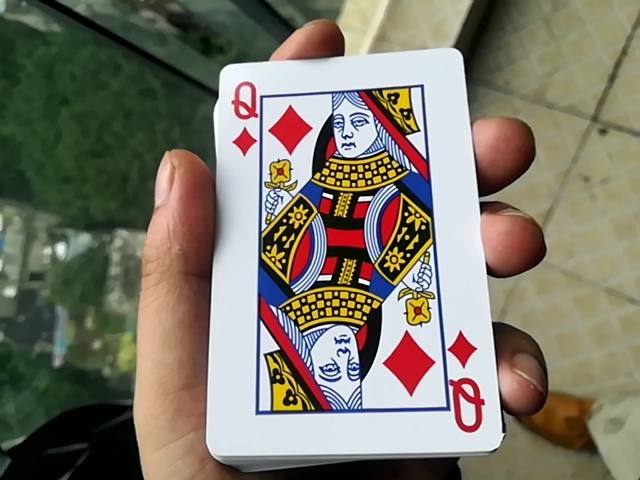fk q: (190, 55, 510, 458)
